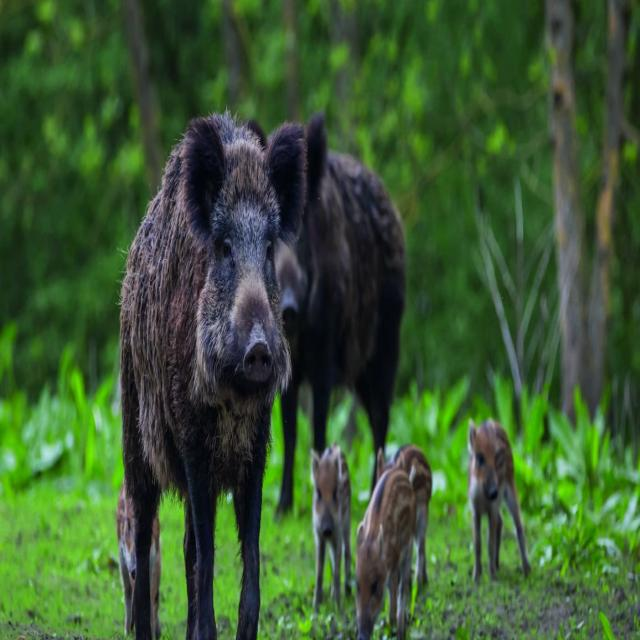Boar: (114, 121, 304, 638), (465, 417, 526, 572), (357, 470, 412, 637), (310, 451, 351, 608)
